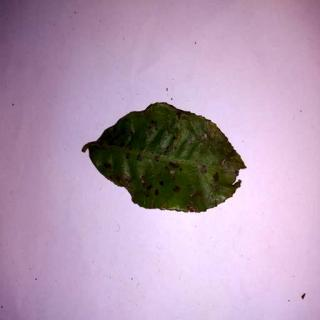Bird Eye Spot: (82, 101, 248, 215)
